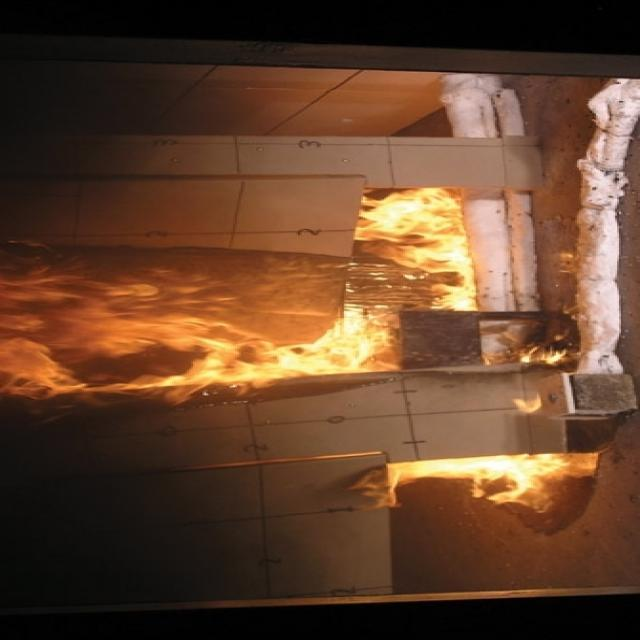Fire: (4, 185, 476, 411), (352, 451, 600, 511)
